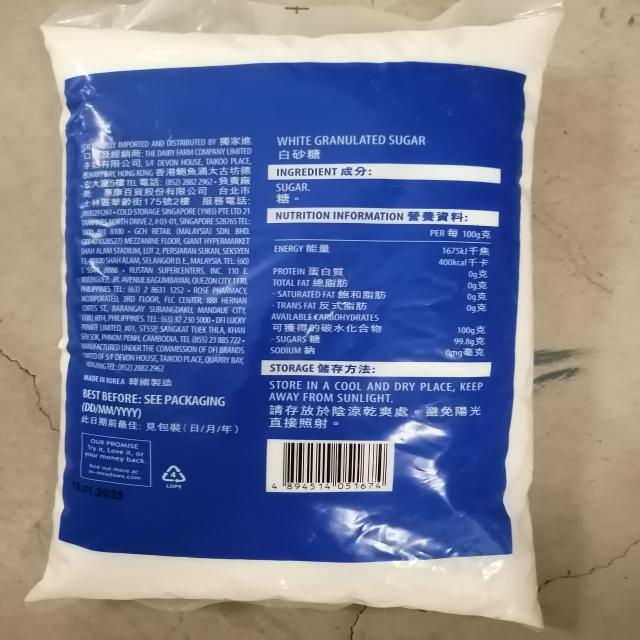object_name: (50, 22, 535, 602)
